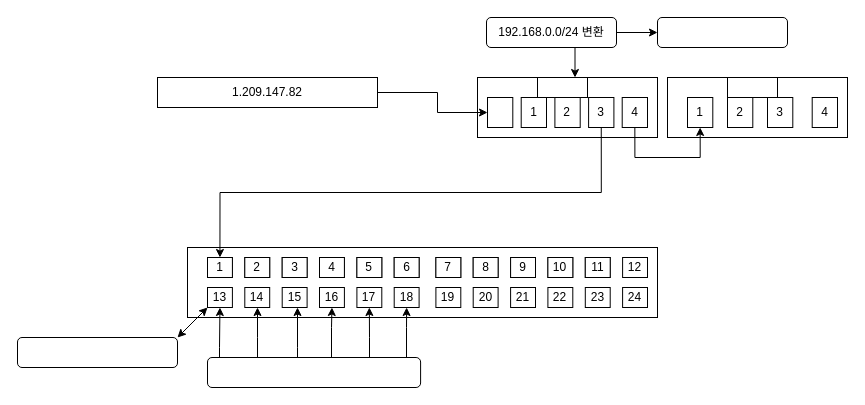
Image size: 865x405. Some labels were removed from this diagram. Here are the shapes that lost their labels. From the top down, the centre of each, then its label:
At point 722,32: "192.168.0.100 ~ 254 ( dhcp 할당 범위 )".
At point 562,87: "n2004".
At point 752,87: "hub".
At point 499,112: "wan".
At point 97,352: "192.168.0.0 -> 192.168.1.0 vlan 구성 ( 13 ~ 18)".
At point 313,372: "192.168.1.0/24 변환".
